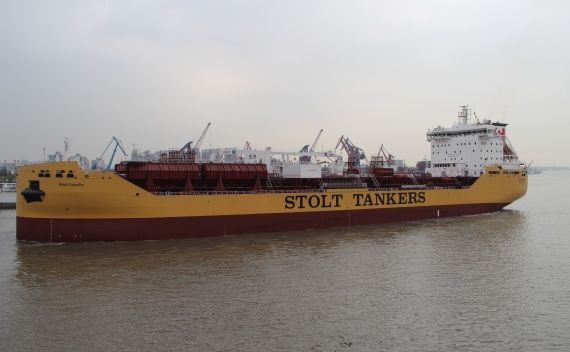rust: (128, 164, 267, 189), (376, 169, 400, 187)
